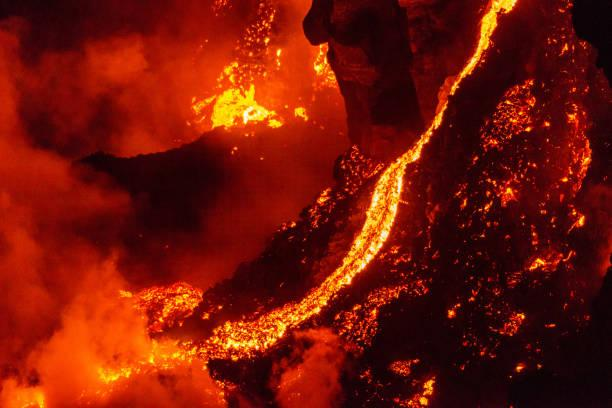Fire: (157, 24, 595, 394)
